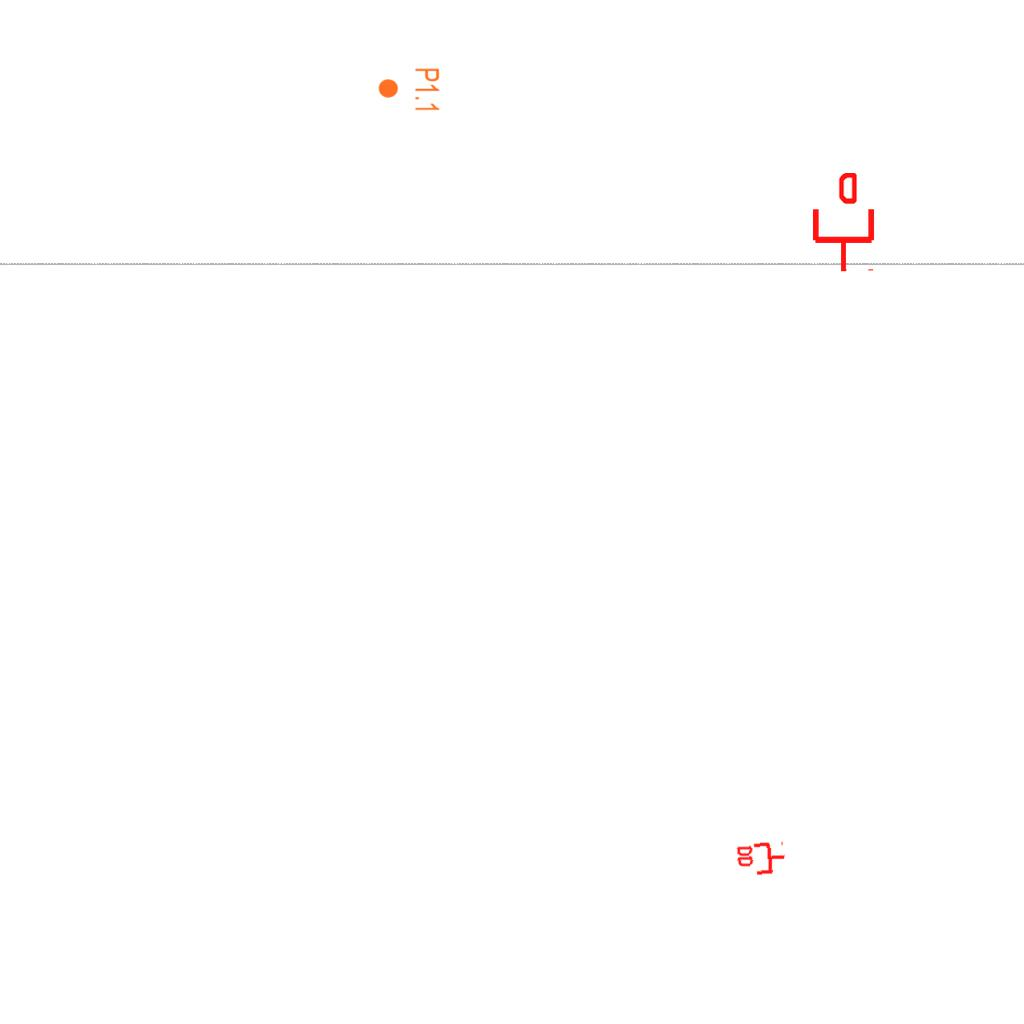Datenanschluss_einfach: (809, 173, 878, 273)
Datenanschluss_zweifach: (734, 840, 788, 879)
Downlight_LED_Einbauleuchten_Flur: (377, 67, 441, 113)
